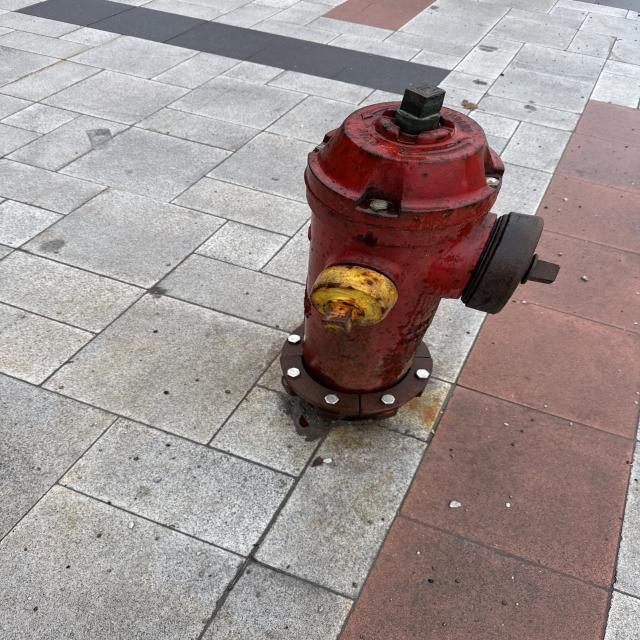Fire hydrant: (278, 82, 563, 422)
